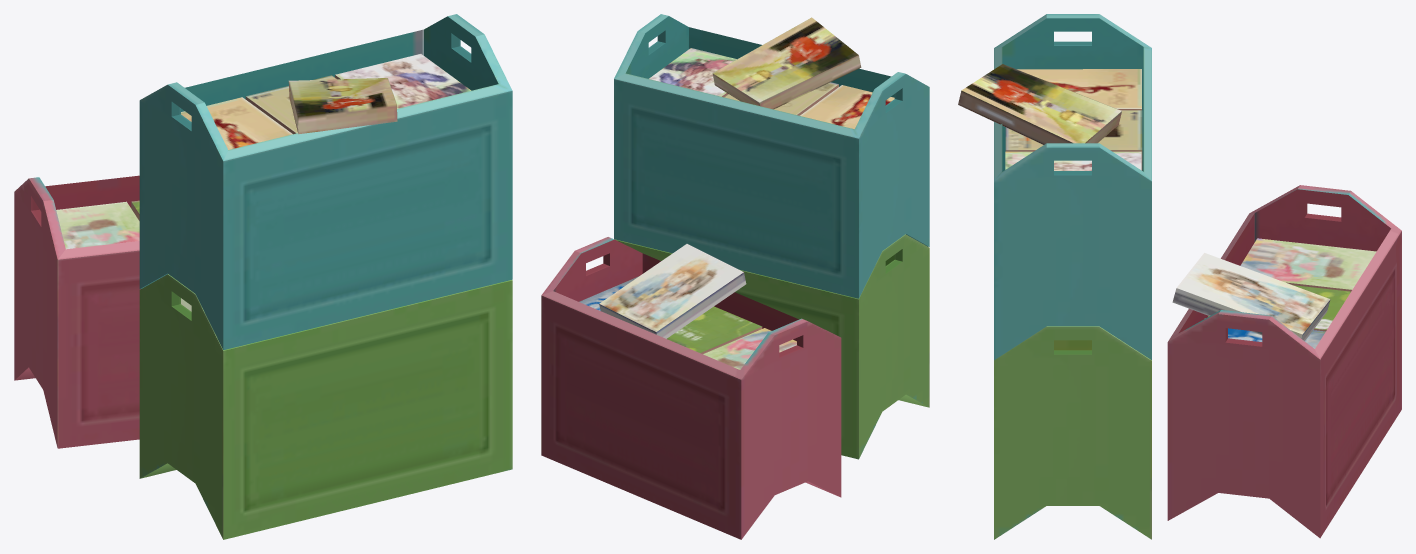
File: furni_0200148.FBX
The picture shows the model from 3 angles, left to right: view 1: azimuth 30°, elevation 25°; view 2: azimuth 150°, elevation 25°; view 3: azimuth 270°, elevation 25°; orthographic projection. The views are drawn at different scales.
Parts seen in each view (by area): view 1: furni_0200148; view 2: furni_0200148; view 3: furni_0200148.
Part boxes in pixels (box(x1,y1,x2,y2)): furni_0200148: box(14, 14, 512, 539); furni_0200148: box(541, 14, 929, 539); furni_0200148: box(958, 14, 1401, 539).
Size of the model in its own units: 54.73 by 67.78 by 69.49.
Materials: 1 (1 with a texture image).
